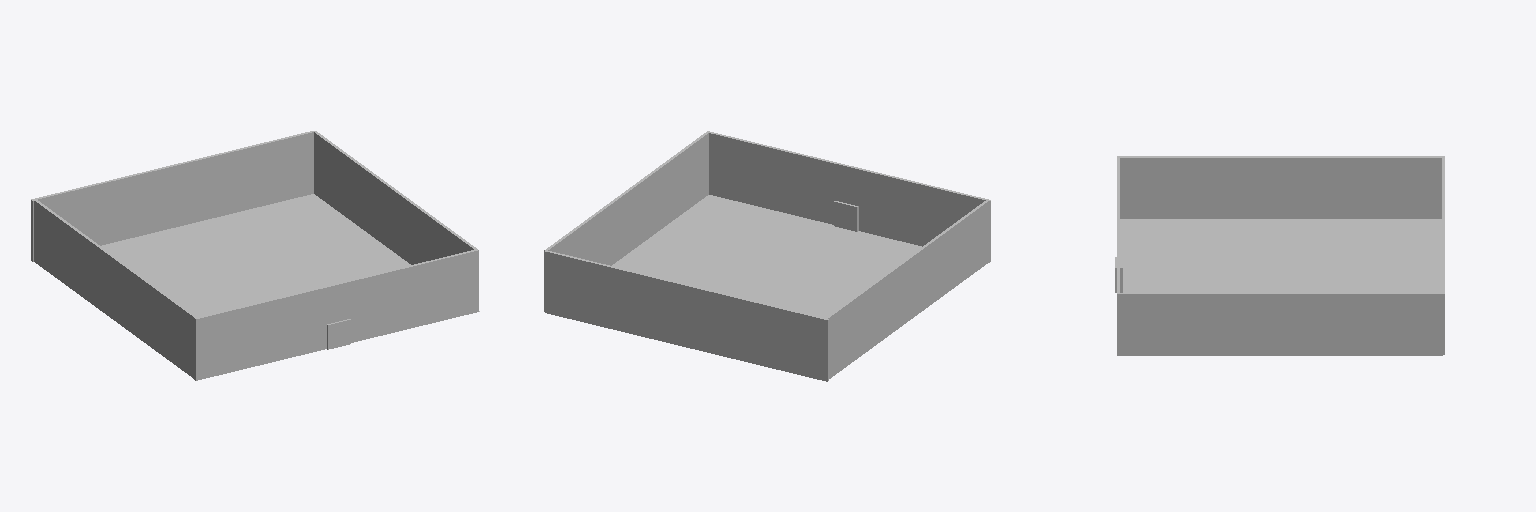
The model's file is outSideWalls.obj.
3 views of the same model, side by side, from view 1: azimuth 30°, elevation 25°; view 2: azimuth 150°, elevation 25°; view 3: azimuth 270°, elevation 25° (orthographic).
Visible parts, largest first — view 1: pPlane1, pasted__pasted__pCube1 pasted__group1 group2, pasted__pCube1 group1, pasted__pCube1 group, pCube1, pCube2; view 2: pPlane1, pasted__pCube1 group1, pasted__pasted__pCube1 pasted__group1 group2, pasted__pCube1 group, pCube1, pCube2; view 3: pPlane1, pCube1, pasted__pCube1 group, pasted__pCube1 group1.
Boxes of the visible parts, x1=… form: pPlane1: x1=101, y1=194, x2=479, y2=316; pasted__pasted__pCube1 pasted__group1 group2: x1=194, y1=250, x2=476, y2=380; pasted__pCube1 group1: x1=31, y1=131, x2=313, y2=261; pasted__pCube1 group: x1=34, y1=200, x2=197, y2=378; pCube1: x1=313, y1=131, x2=478, y2=311; pCube2: x1=327, y1=319, x2=350, y2=349; pPlane1: x1=612, y1=195, x2=921, y2=317; pasted__pCube1 group1: x1=545, y1=250, x2=828, y2=381; pasted__pasted__pCube1 pasted__group1 group2: x1=709, y1=132, x2=990, y2=262; pasted__pCube1 group: x1=824, y1=199, x2=989, y2=378; pCube1: x1=544, y1=131, x2=709, y2=311; pCube2: x1=834, y1=201, x2=858, y2=231; pPlane1: x1=1120, y1=219, x2=1441, y2=292; pCube1: x1=1117, y1=293, x2=1442, y2=355; pasted__pCube1 group: x1=1120, y1=156, x2=1441, y2=218; pasted__pCube1 group1: x1=1442, y1=156, x2=1444, y2=354.
Size of the model in its own units: 24.18 by 5 by 24.29.